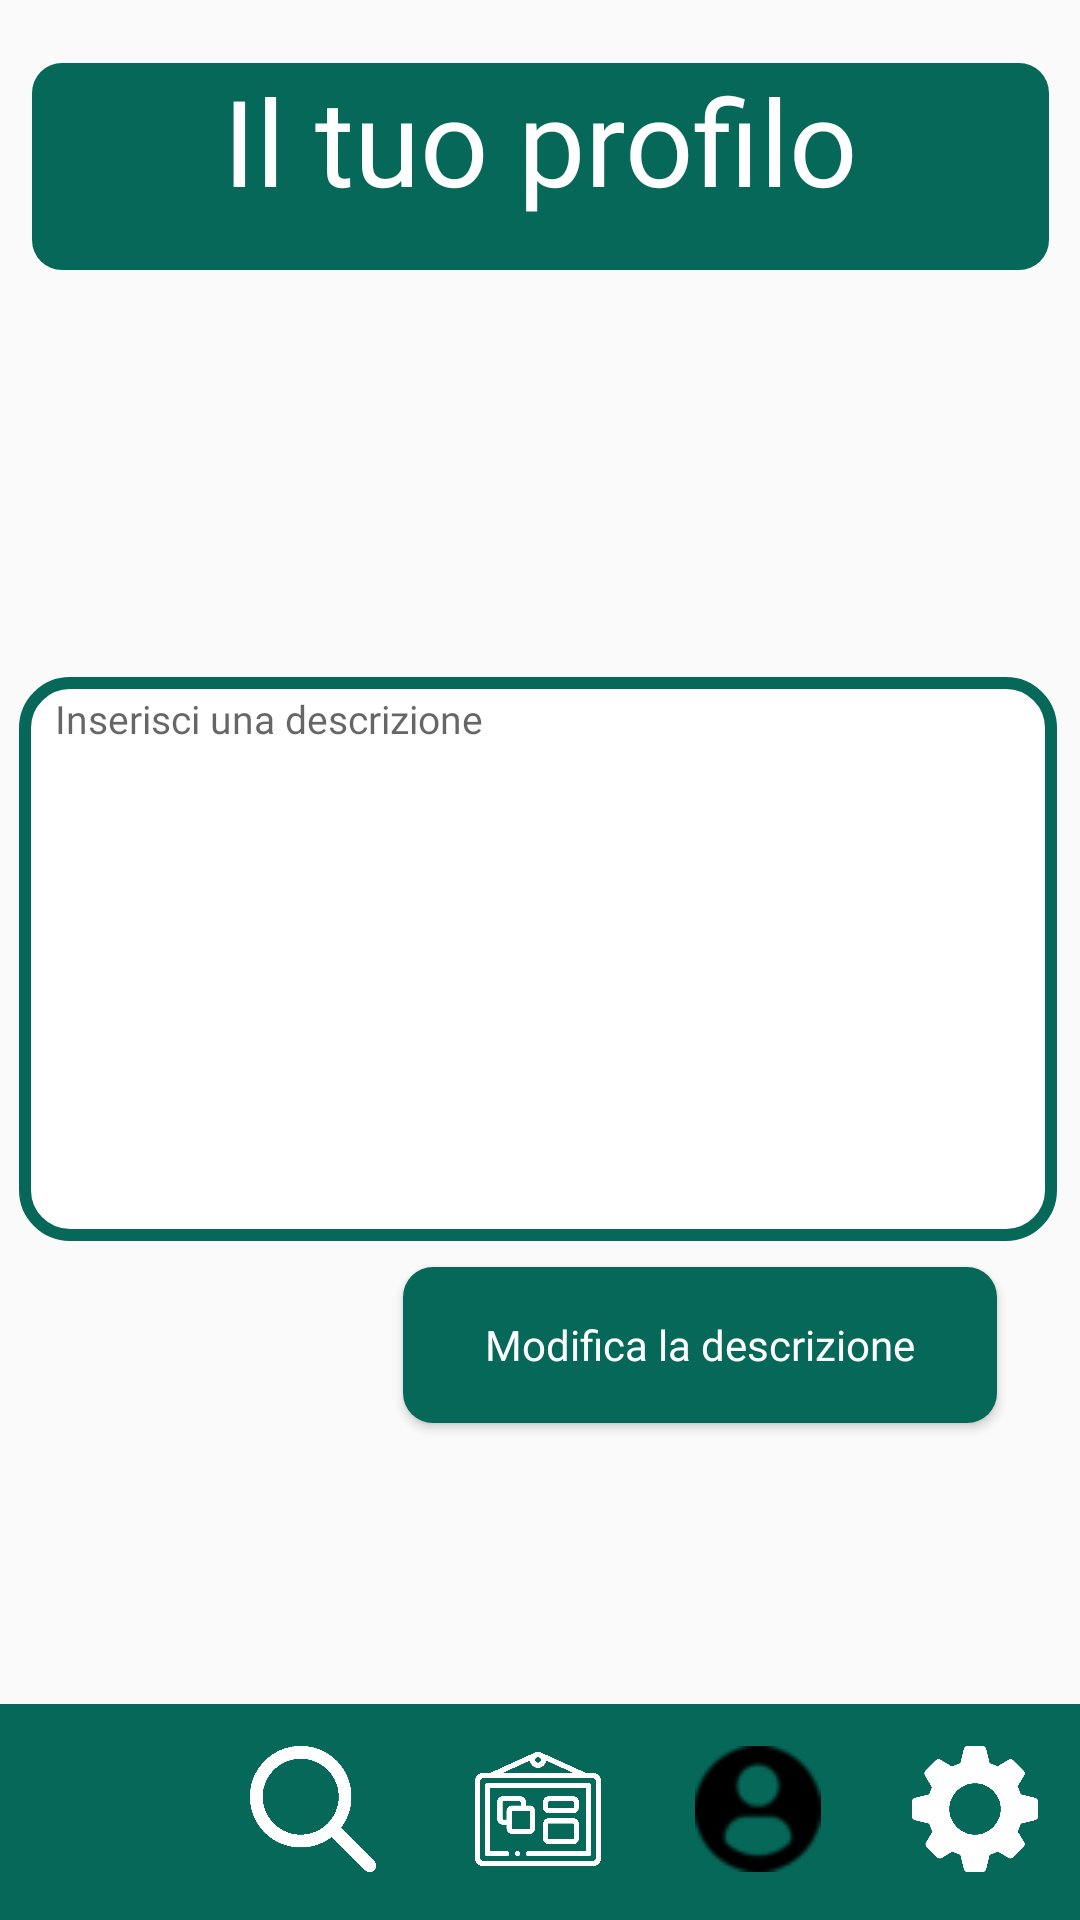

Icons on this 1080px×1920px Android screen, each with the point to tap as (x,y):
boardwhite: (538,1809)
gearwhite: (975,1809)
searchwhite: (313,1809)
user: (758,1809)
